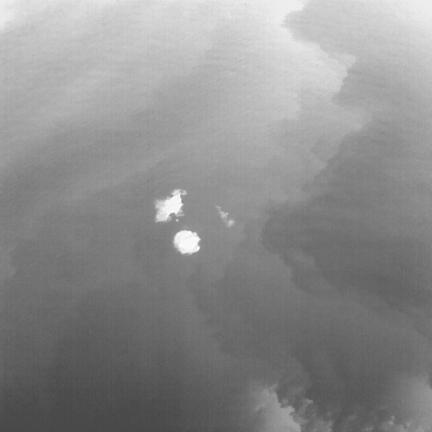flukeprints: (155, 189, 186, 221), (173, 230, 199, 254)
